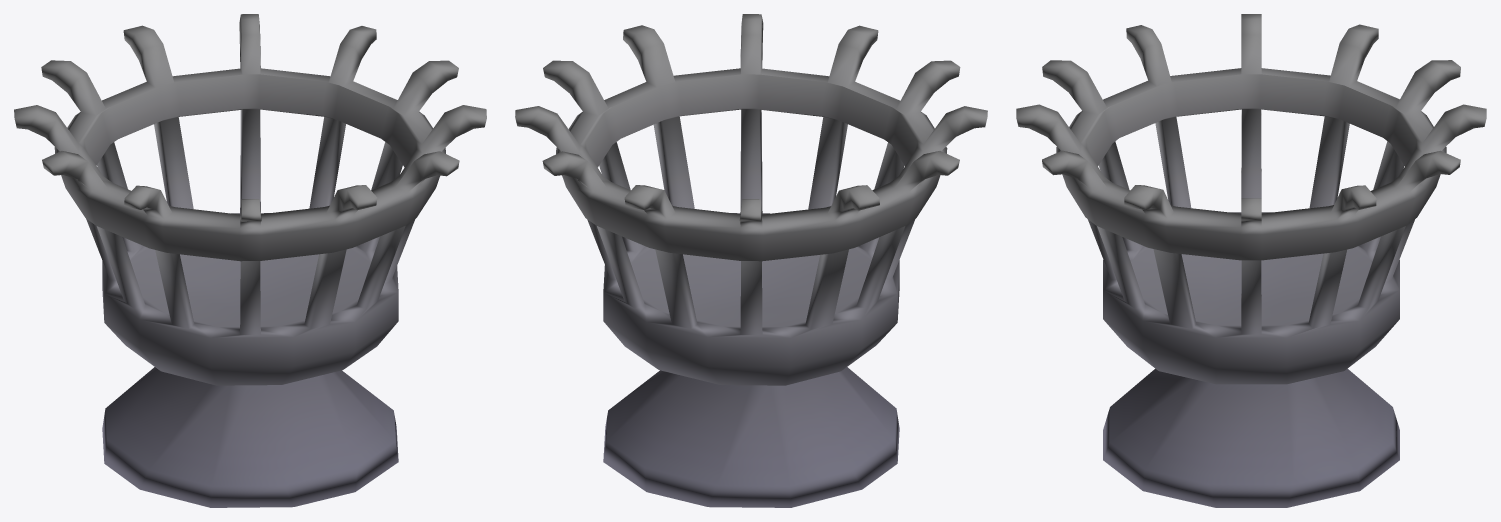
Rendered from brazier.fbx.
3 views of the same model, side by side, from view 1: azimuth 30°, elevation 25°; view 2: azimuth 150°, elevation 25°; view 3: azimuth 270°, elevation 25° (orthographic).
Parts seen in each view (by area): view 1: brazier; view 2: brazier; view 3: brazier.
Part boxes in pixels (x1,y1,x2,y2): brazier: (14,14,486,507); brazier: (515,14,987,507); brazier: (1016,14,1486,507).
Size of the model in its own units: 9.41 by 7.42 by 9.41.
